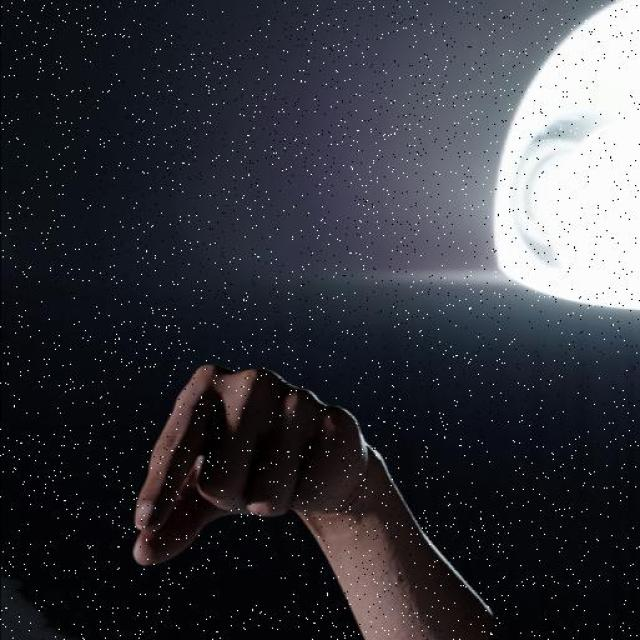Q: (126, 353, 388, 571)
